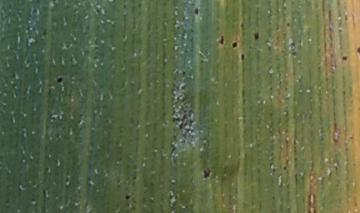tarspot: (201, 167, 211, 181), (229, 39, 239, 50), (216, 34, 225, 46), (55, 74, 64, 85), (252, 31, 261, 41), (193, 6, 200, 17), (123, 193, 132, 201), (240, 51, 246, 62), (355, 45, 360, 58), (340, 54, 348, 62), (283, 21, 291, 28), (238, 20, 244, 29), (281, 164, 288, 171), (180, 69, 187, 76)
